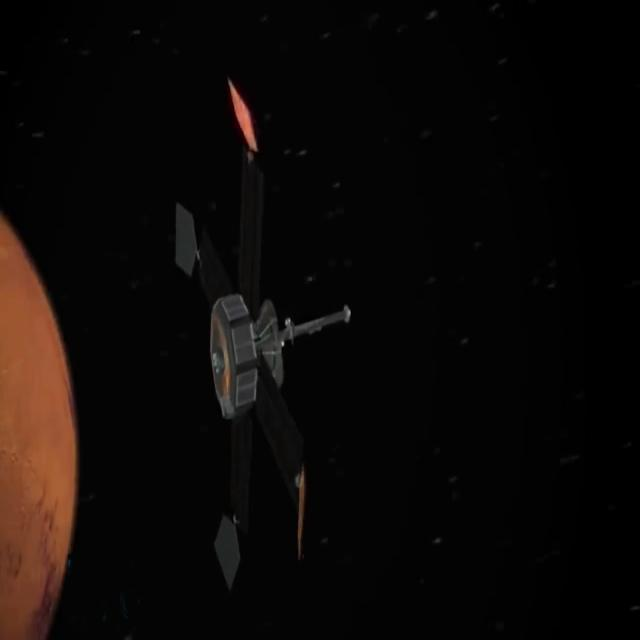satellite: (153, 0, 364, 640)
